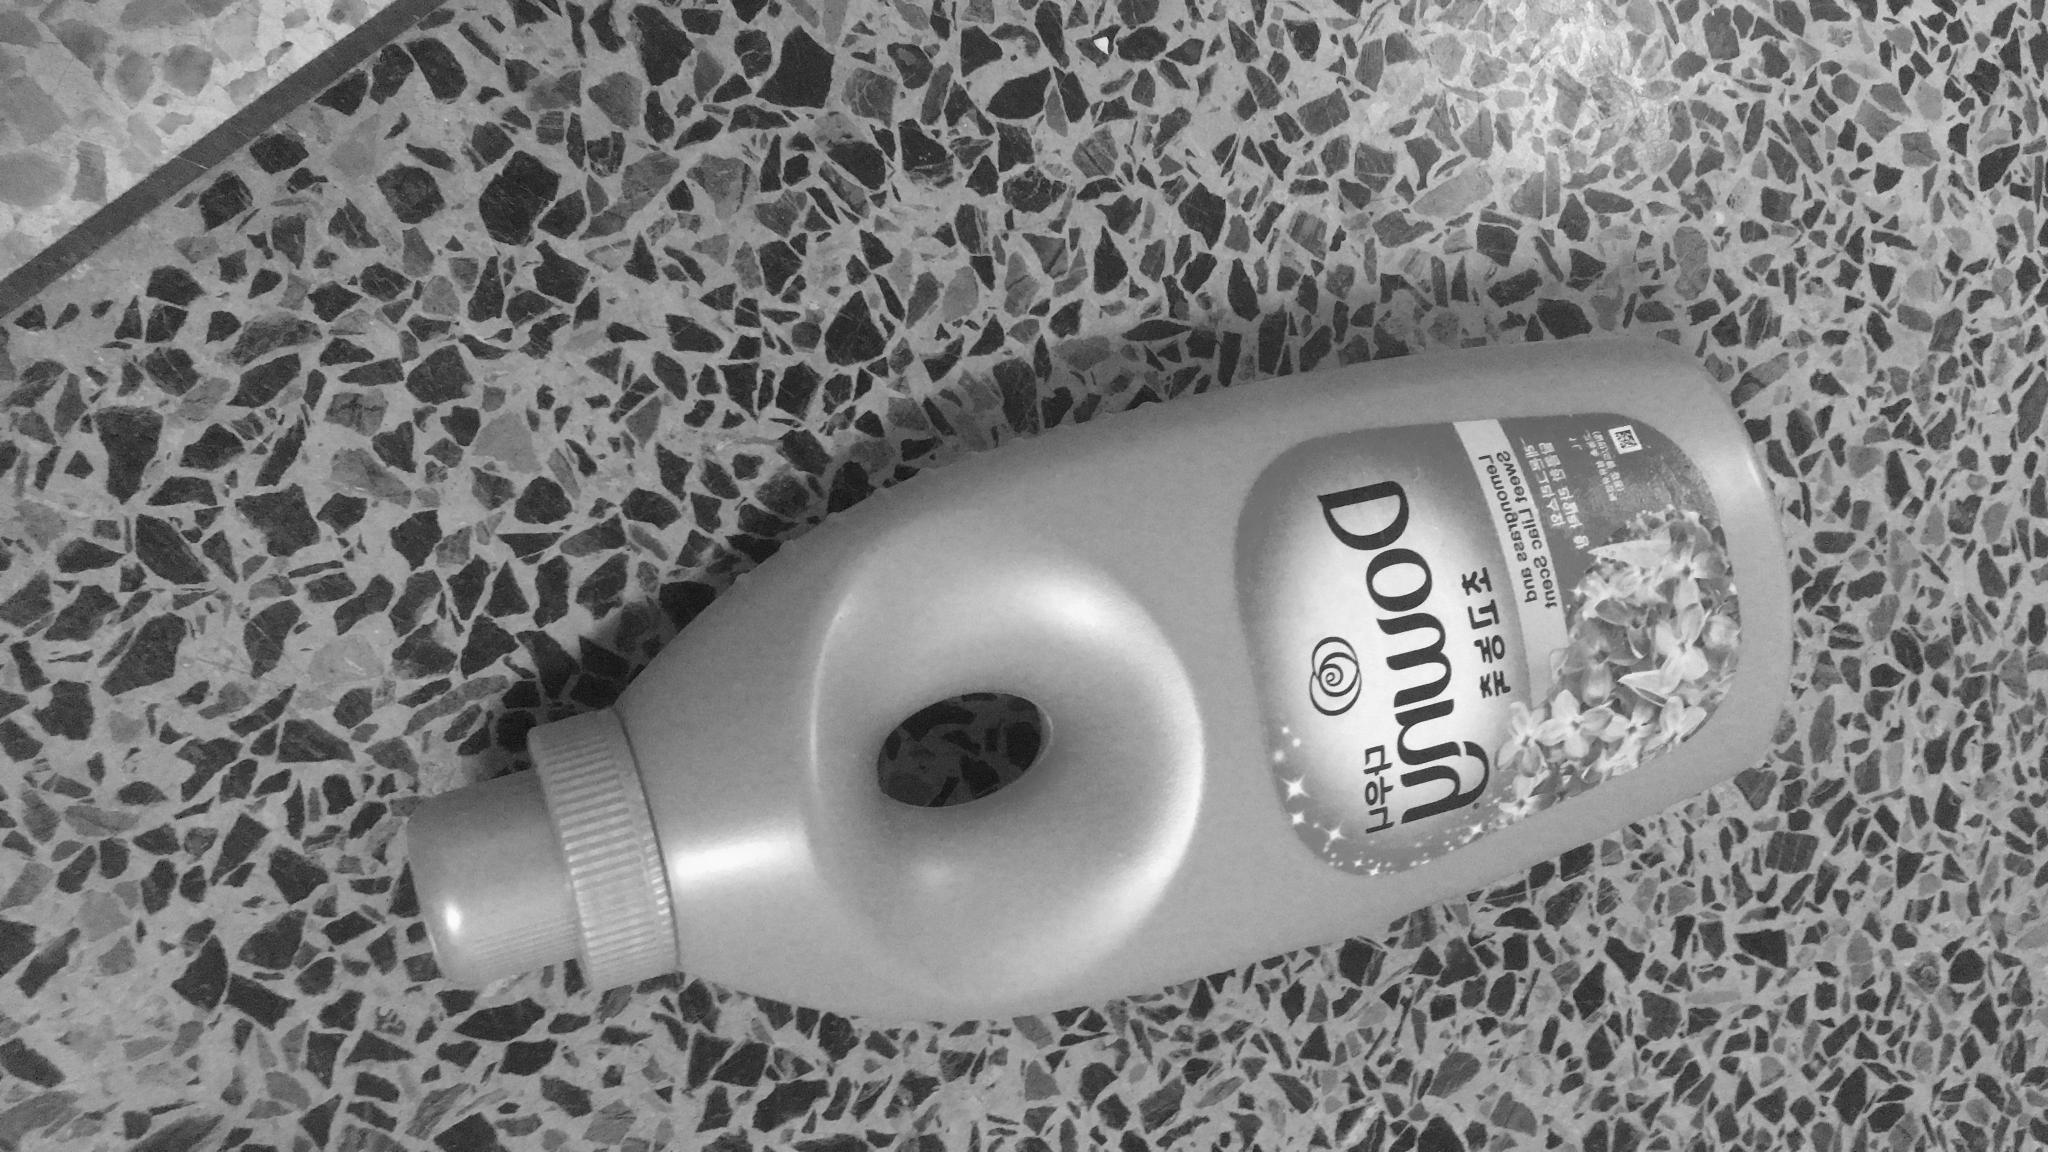bottle: (401, 248, 1800, 1082)
